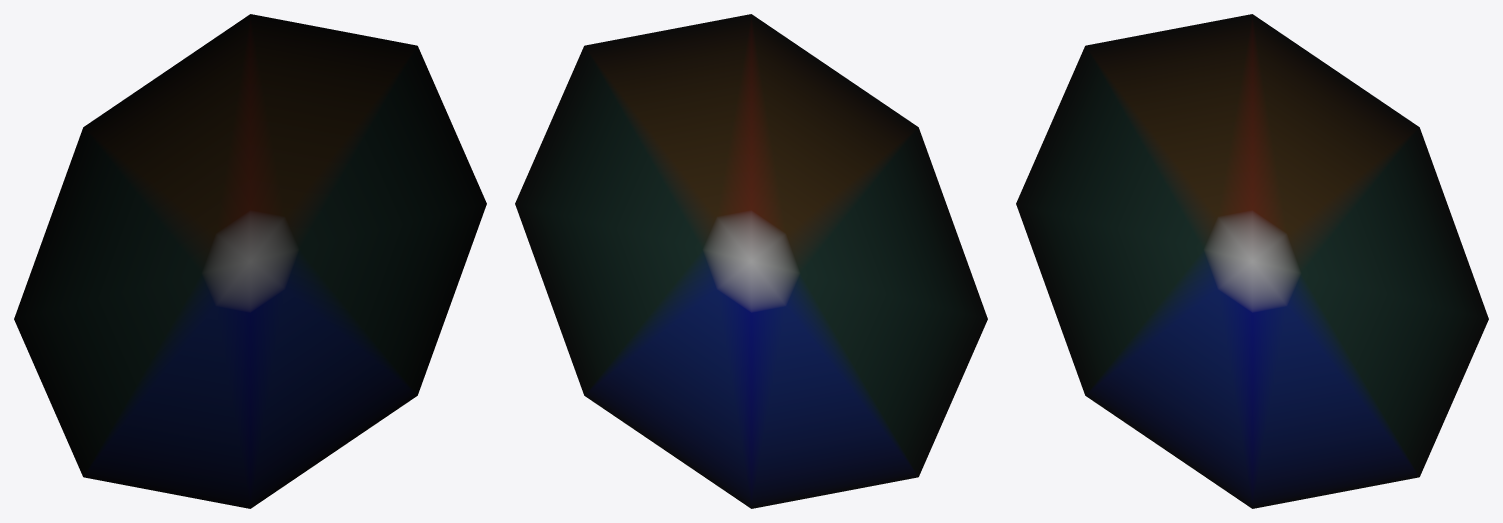
3 renders of one model, left to right at view 1: azimuth 30°, elevation 25°; view 2: azimuth 150°, elevation 25°; view 3: azimuth 330°, elevation 25°, orthographic.
Parts seen in each view (by area): view 1: Joint_0_Object_0; view 2: Joint_0_Object_0; view 3: Joint_0_Object_0.
Part boxes in pixels (x1,y1,x2,y2): Joint_0_Object_0: (14,14,486,508); Joint_0_Object_0: (515,14,987,508); Joint_0_Object_0: (1016,14,1488,508).
Size of the model in its own units: 48 by 48 by 1.75e-06.
